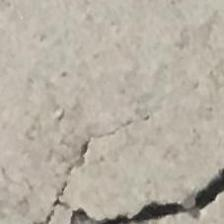Crack: (20, 134, 224, 224)
